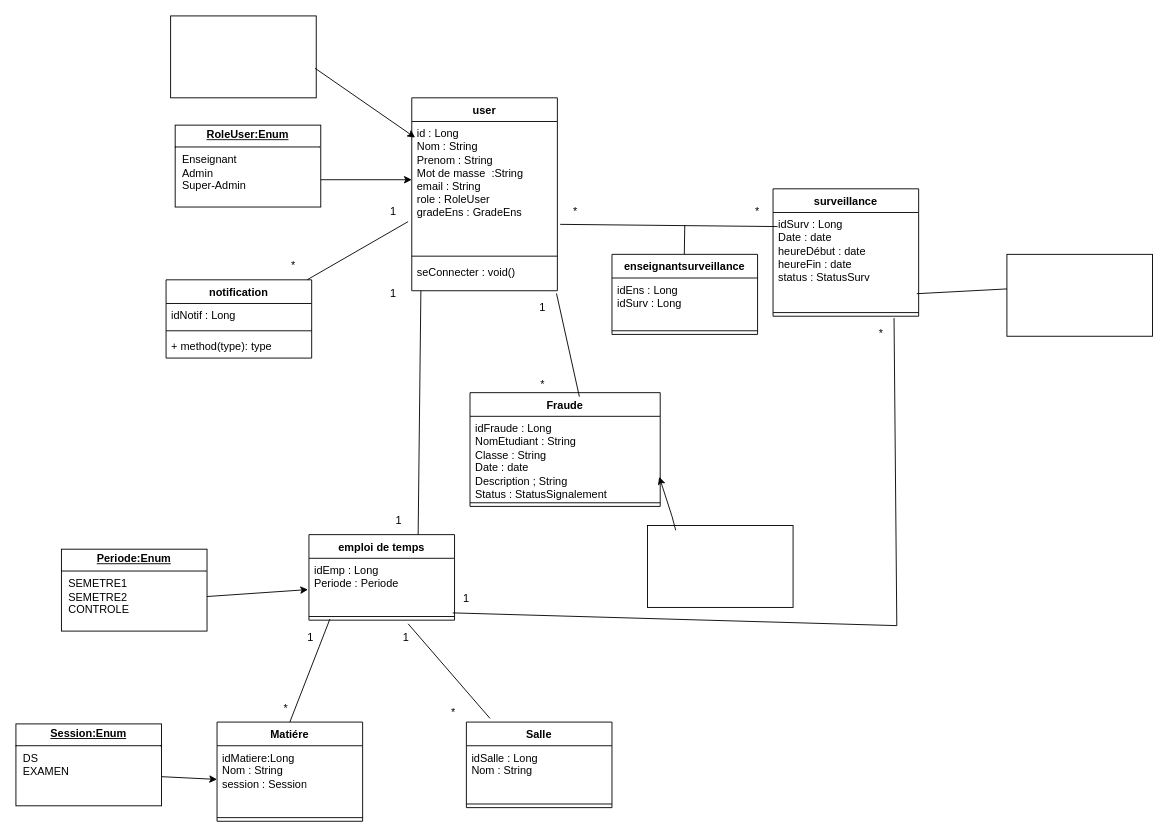
The diagram is 1168 pixels wide and 837 high, and some of its shapes have lost their labels. The centre of each missing label's shape, as x and y in pixels:
GradeEns:Enum CUP CFA CEF ChefDep: point (243, 56)
StatusSignalemen :Enum En Attente traitée rejetée: point (720, 566)
StatusSurv :Enum Planifiée Affectée Annulée: point (1079, 294)
